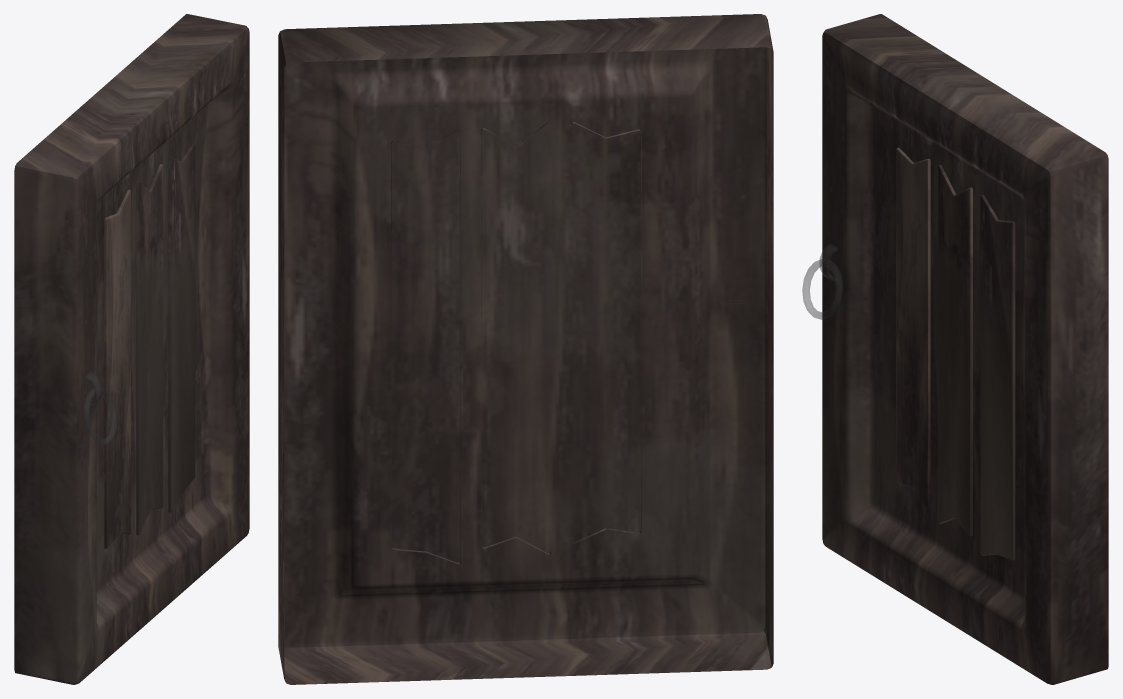
Rendered from cabient1-door-r.glb.
3 views of the same model, side by side, from view 1: azimuth 30°, elevation 25°; view 2: azimuth 150°, elevation 25°; view 3: azimuth 270°, elevation 25° (orthographic). The views are drawn at different scales.
Visible parts, largest first — view 1: cabeintDoor.003; view 2: cabeintDoor.003; view 3: cabeintDoor.003.
Boxes of the visible parts, x1,y1,x2,y2 form: cabeintDoor.003: (14, 14, 249, 684); cabeintDoor.003: (278, 14, 773, 684); cabeintDoor.003: (802, 14, 1108, 684).
Bounding box in the file's own units: 0.4767 × 0.7261 × 0.3902.
Materials: 2 (1 with a texture image).
